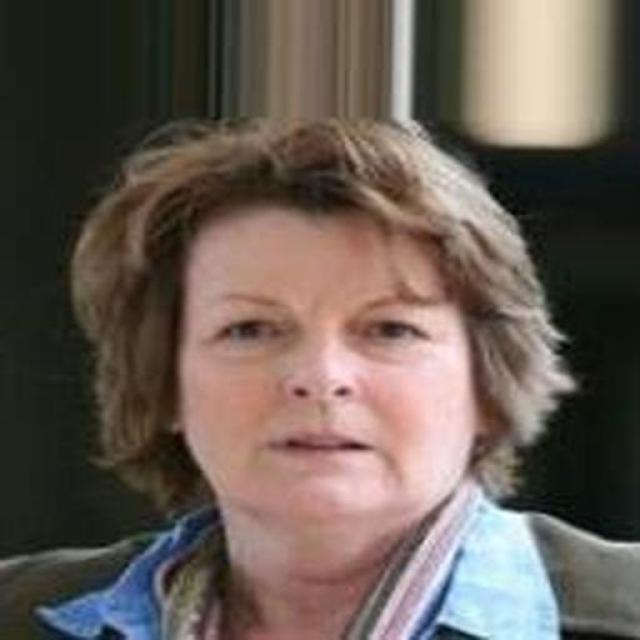bareface: (152, 115, 482, 522)
